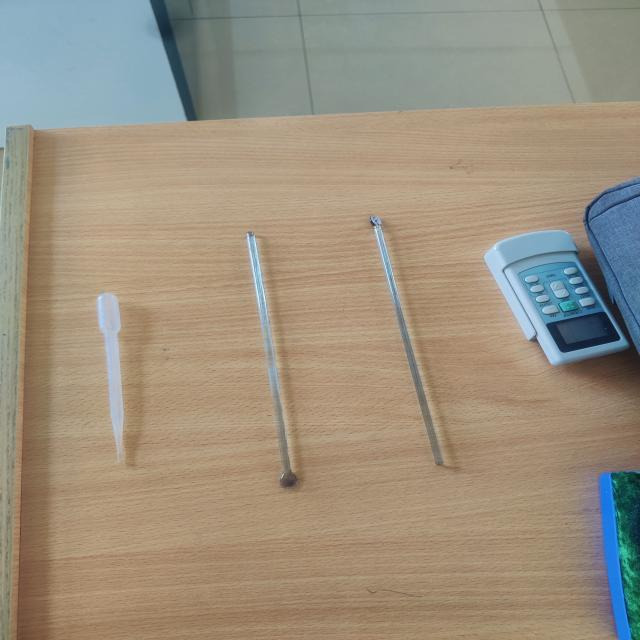Glass_Rod: (354, 202, 480, 485), (218, 208, 336, 509)
Pipette: (71, 264, 174, 473)
